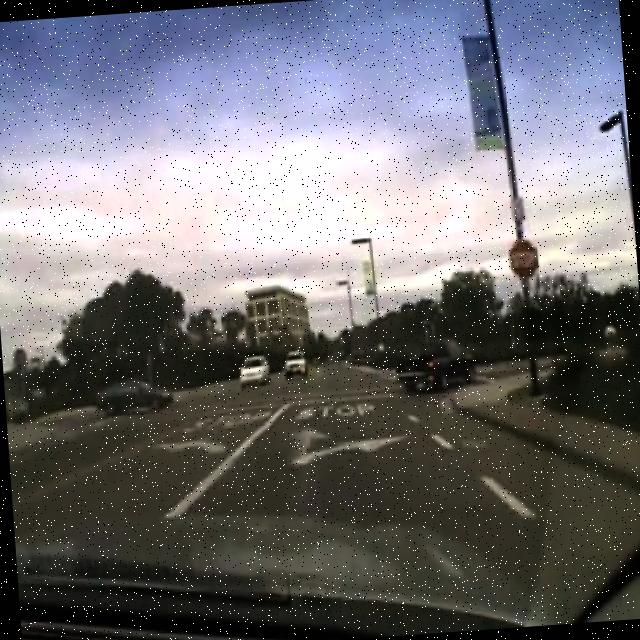Stop: (506, 236, 540, 280)
